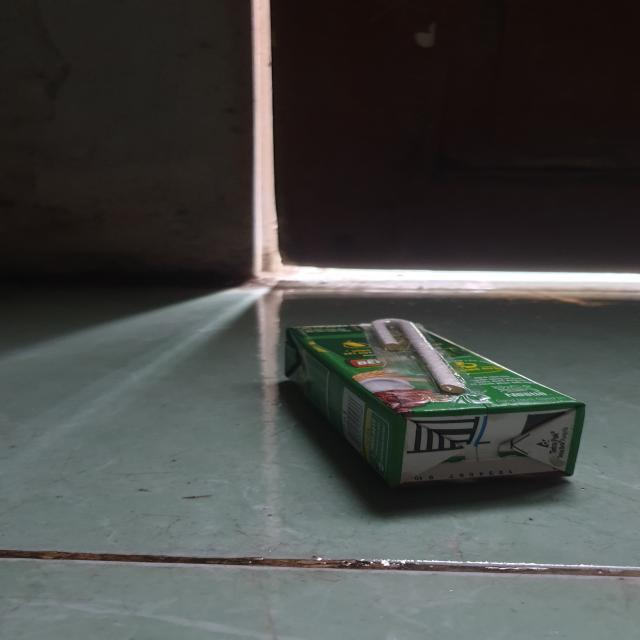Milo: (285, 318, 584, 488)
